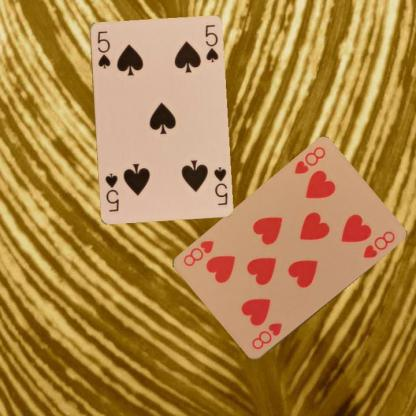5s: (94, 28, 112, 70), (211, 164, 229, 206)
8h: (291, 145, 327, 176), (249, 320, 284, 351)
